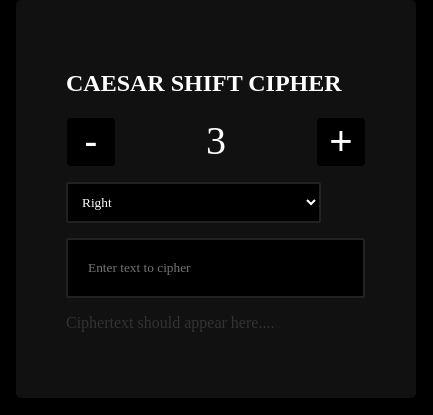
Test: CaesarCipher Component › displays ciphered text immediately on input change
Step 1. Type "HELLO" into the field with placeholder "Enter text to cipher" → (216, 268), box [66, 238, 365, 298]
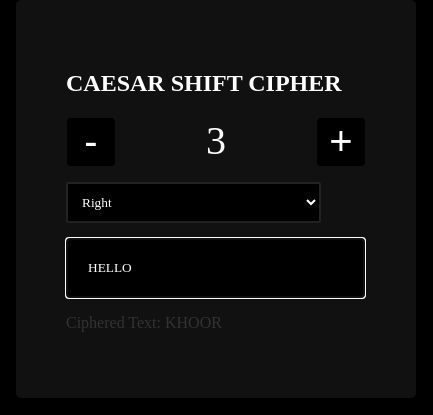
Now the text "Ciphered Text: KHOOR" is shown, box [66, 314, 222, 331]
